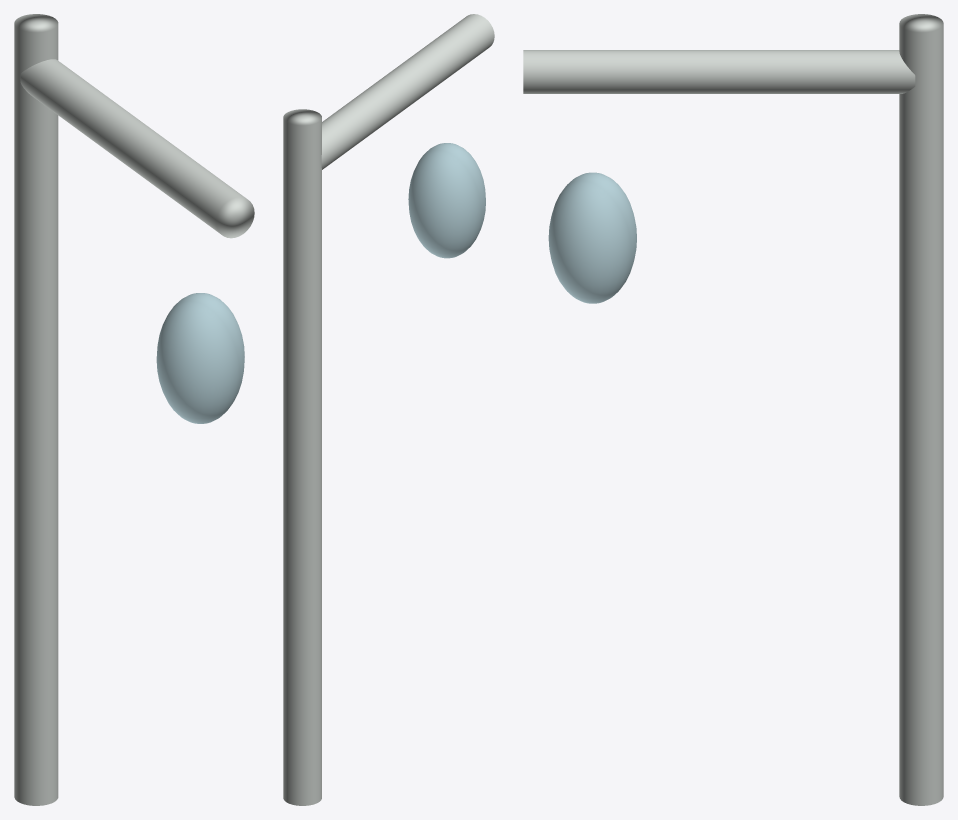
The model's file is drinker.glb.
3 views of the same model, side by side, from view 1: azimuth 30°, elevation 25°; view 2: azimuth 150°, elevation 25°; view 3: azimuth 270°, elevation 25° (orthographic). The views are drawn at different scales.
Visible parts, largest first — view 1: drinker-vertical-line, drinker-nipple, drinker-water-drop; view 2: drinker-vertical-line, drinker-nipple, drinker-water-drop; view 3: drinker-vertical-line, drinker-nipple, drinker-water-drop.
Boxes of the visible parts, left/top/right/bottom form: drinker-vertical-line: left=14, top=14, right=58, bottom=805; drinker-nipple: left=20, top=59, right=254, bottom=238; drinker-water-drop: left=156, top=293, right=244, bottom=423; drinker-vertical-line: left=283, top=109, right=321, bottom=805; drinker-nipple: left=321, top=14, right=494, bottom=169; drinker-water-drop: left=408, top=143, right=485, bottom=258; drinker-vertical-line: left=899, top=14, right=943, bottom=805; drinker-nipple: left=523, top=50, right=915, bottom=93; drinker-water-drop: left=548, top=172, right=636, bottom=303.
Size of the model in its own units: 0.14 by 1.35 by 0.665.
